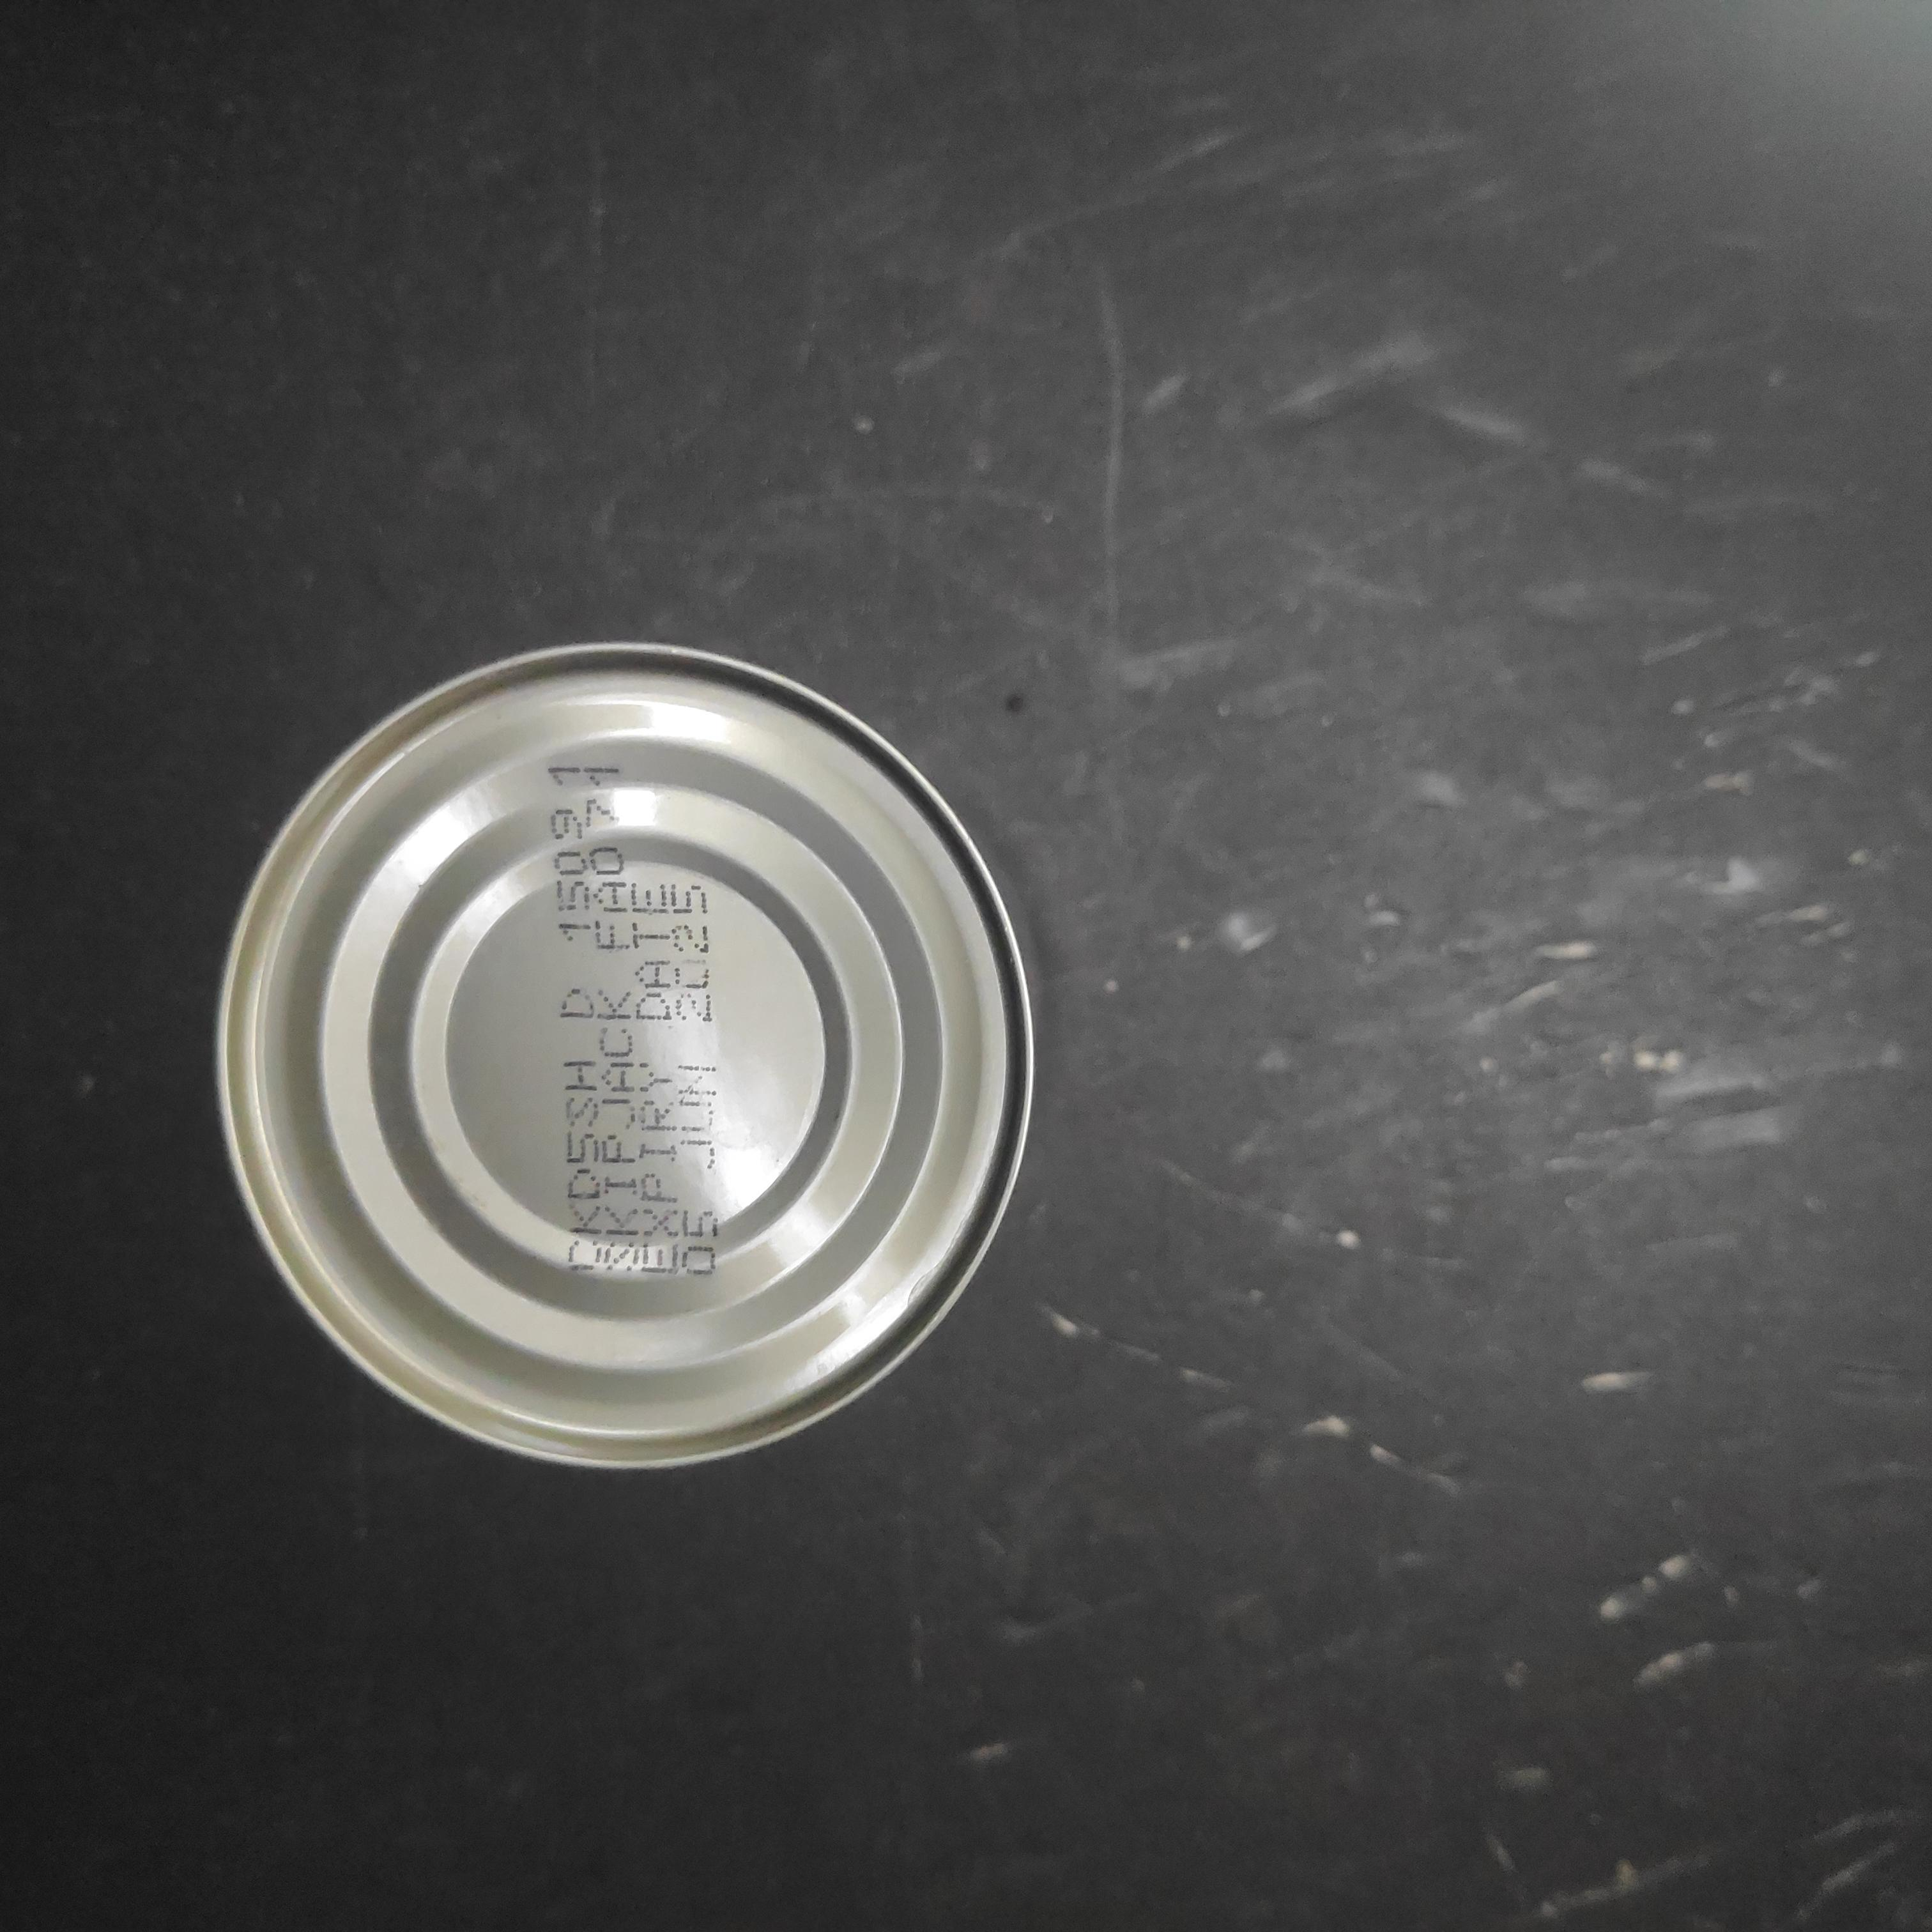No defect: (893, 460, 1723, 1292)
